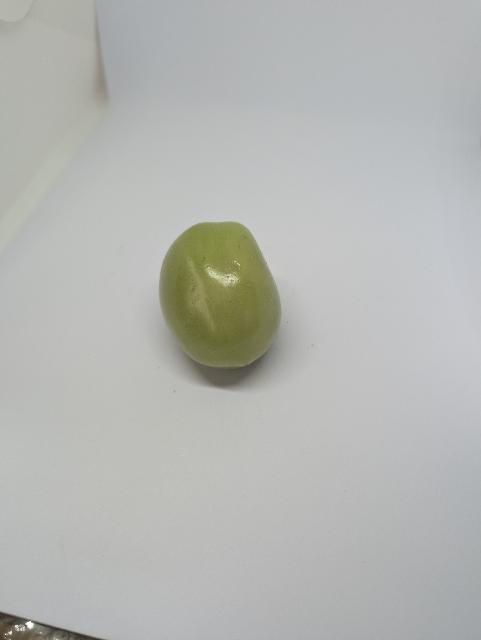green: (156, 219, 285, 371)
